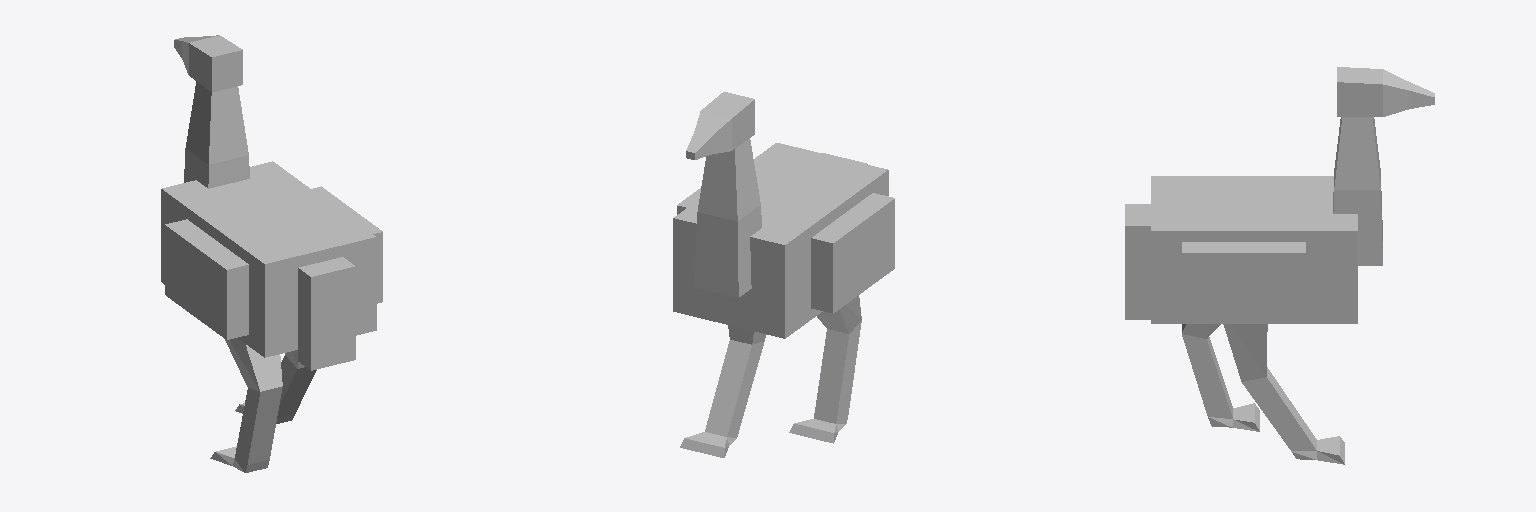
File: Ostrich_000179.obj
The picture shows the model from 3 angles: view 1: azimuth 30°, elevation 25°; view 2: azimuth 150°, elevation 25°; view 3: azimuth 270°, elevation 25°; orthographic projection.
Parts seen in each view (by area): view 1: Cube_Cube.001; view 2: Cube_Cube.001; view 3: Cube_Cube.001.
Boxes of the visible parts, x1=… form: Cube_Cube.001: x1=161, y1=35, x2=382, y2=472; Cube_Cube.001: x1=673, y1=92, x2=894, y2=457; Cube_Cube.001: x1=1125, y1=67, x2=1434, y2=464.
Bounding box in the file's own units: 0.7 × 1.55 × 1.2.